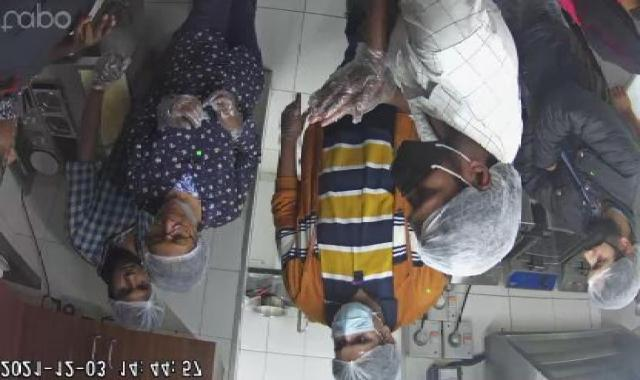hairnet: (414, 164, 534, 285), (138, 232, 220, 295), (569, 256, 640, 319), (331, 334, 424, 380), (102, 280, 161, 331)
